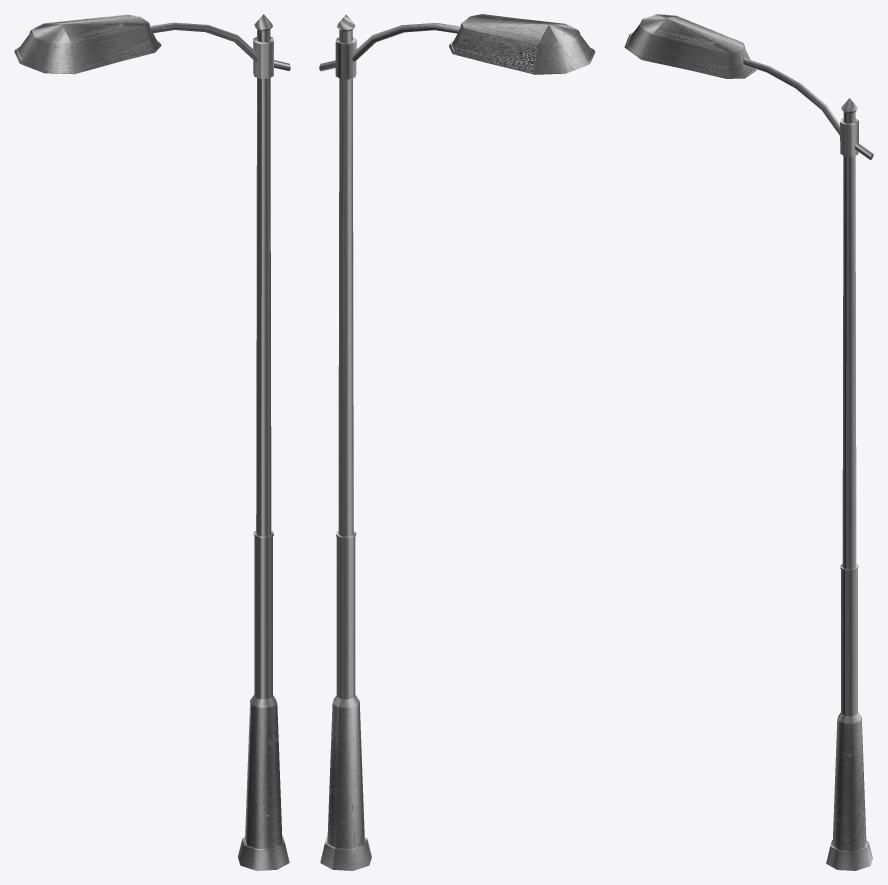
File: StreetLight.fbx
3 views of the same model, side by side, from view 1: azimuth 30°, elevation 25°; view 2: azimuth 150°, elevation 25°; view 3: azimuth 330°, elevation 25° (orthographic). The views are drawn at different scales.
Parts seen in each view (by area): view 1: Cylinder049; view 2: Cylinder049; view 3: Cylinder049.
Part boxes in pixels (x1,y1,x2,y2): Cylinder049: (14,14,290,870); Cylinder049: (319,14,595,870); Cylinder049: (624,14,873,870).
Bounding box in the file's own units: 63.7 × 200 × 17.99.
Materials: 1 (1 with a texture image).
